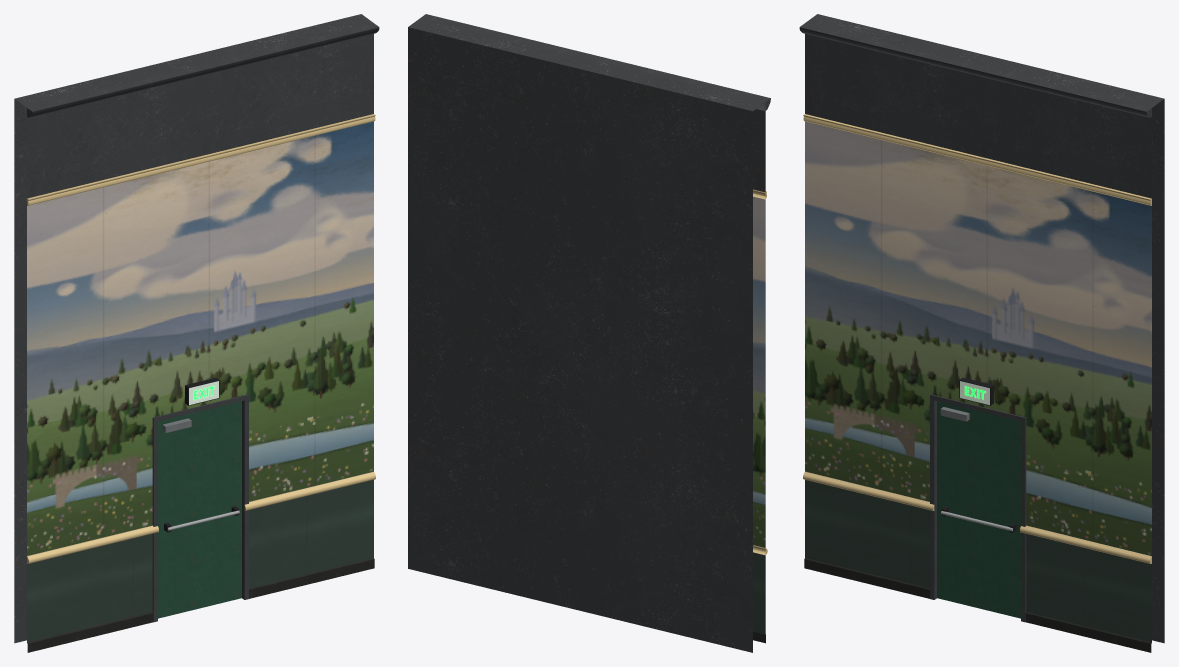
Rendered from SM_QUE_Wall_4m_Exit.fbx.
3 renders of one model, left to right at view 1: azimuth 30°, elevation 25°; view 2: azimuth 150°, elevation 25°; view 3: azimuth 330°, elevation 25°, orthographic.
Visible parts, largest first — view 1: SM_QUE_Wall_4m_Exit; view 2: SM_QUE_Wall_4m_Exit; view 3: SM_QUE_Wall_4m_Exit.
Part boxes in pixels (x1=…): SM_QUE_Wall_4m_Exit: x1=14, y1=14, x2=379, y2=652; SM_QUE_Wall_4m_Exit: x1=408, y1=14, x2=770, y2=652; SM_QUE_Wall_4m_Exit: x1=799, y1=14, x2=1164, y2=652.
Bounding box in the file's own units: 4 × 6 × 0.36.
